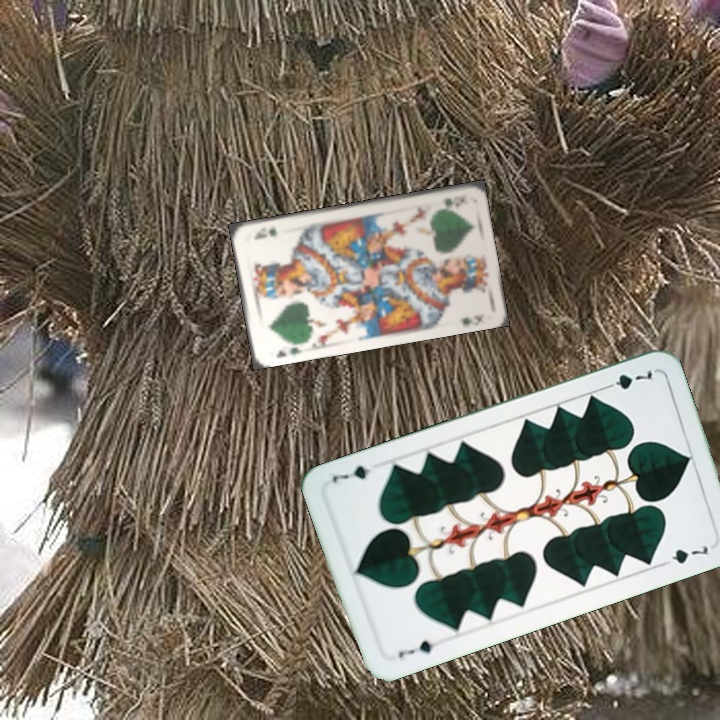G7: (599, 365, 657, 393), (394, 636, 436, 661)
GK: (272, 343, 305, 361), (439, 194, 467, 209)
